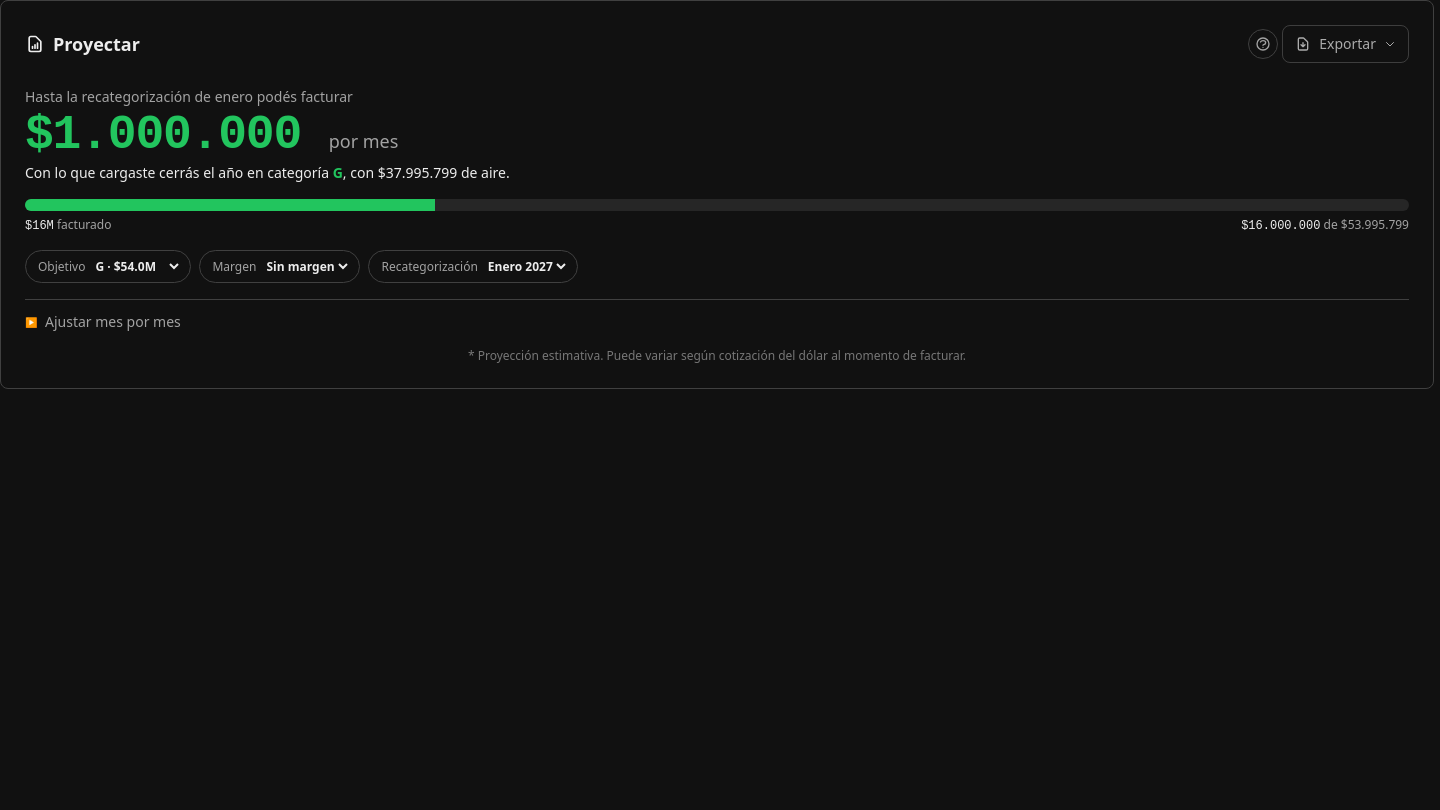
ProjectionPanel · volver adentro de la categoría › el candado se lee como palabra, no sólo como emoji
Step 1. Click the heading "▶ Ajustar mes por mes" → (103, 322), box [25,312,181,331]
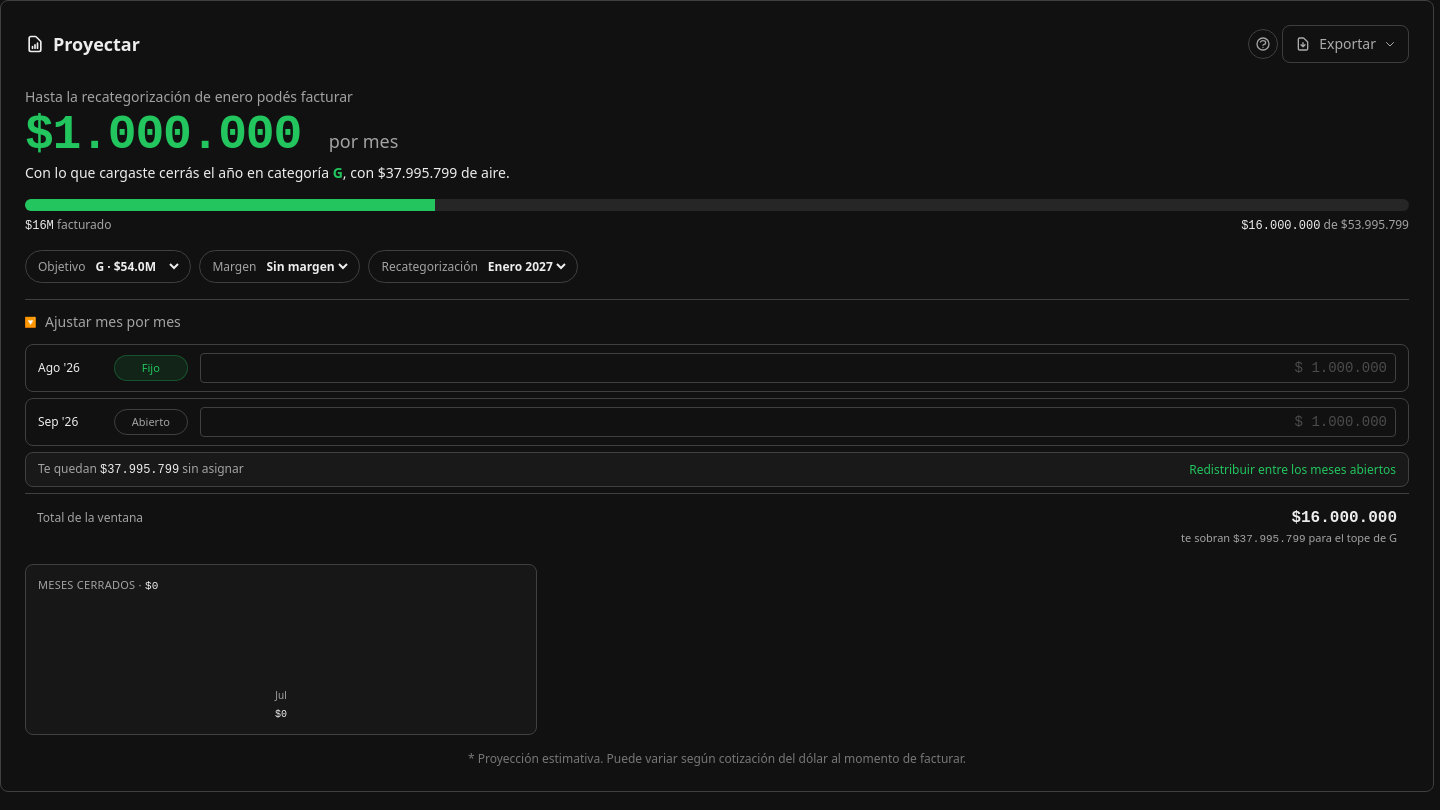
Check: the button with test id "candado-2026-08" reads "Fijo", box [114,355,188,381]
Check: the button with test id "candado-2026-09" reads "Abierto", box [114,409,188,435]
